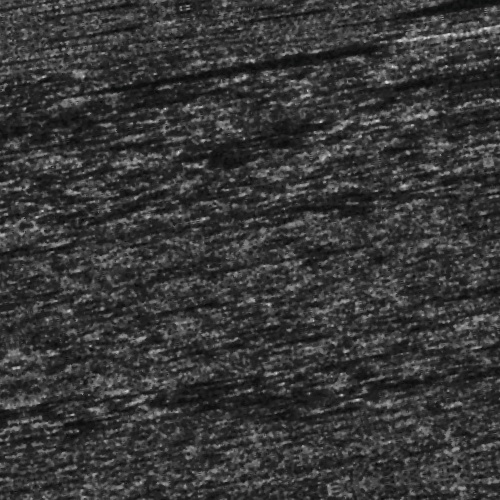object: (201, 291, 284, 300), (429, 64, 500, 71), (162, 5, 225, 10), (0, 384, 19, 389), (43, 207, 74, 210)
shadow: (110, 64, 476, 71), (149, 291, 242, 300), (395, 38, 500, 43), (89, 5, 193, 10), (0, 207, 59, 210), (329, 21, 377, 24)
